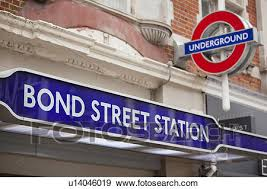London Underground: (185, 11, 256, 72)
